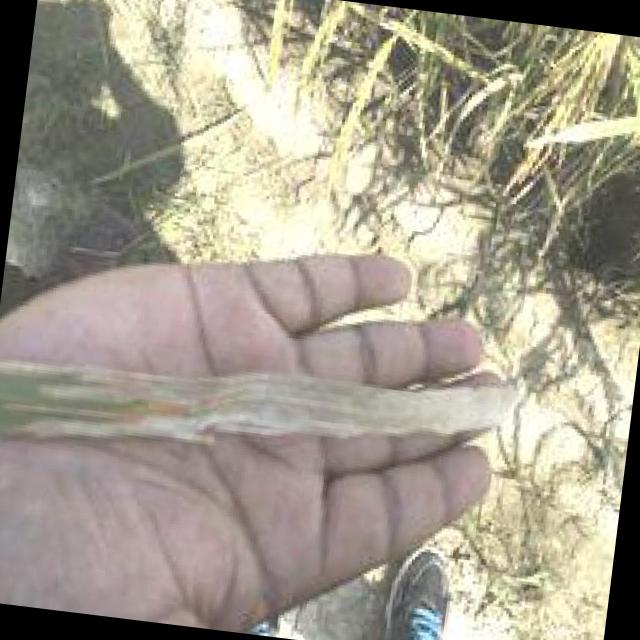Rice_Bacterial_Blight: (128, 332, 537, 478)
